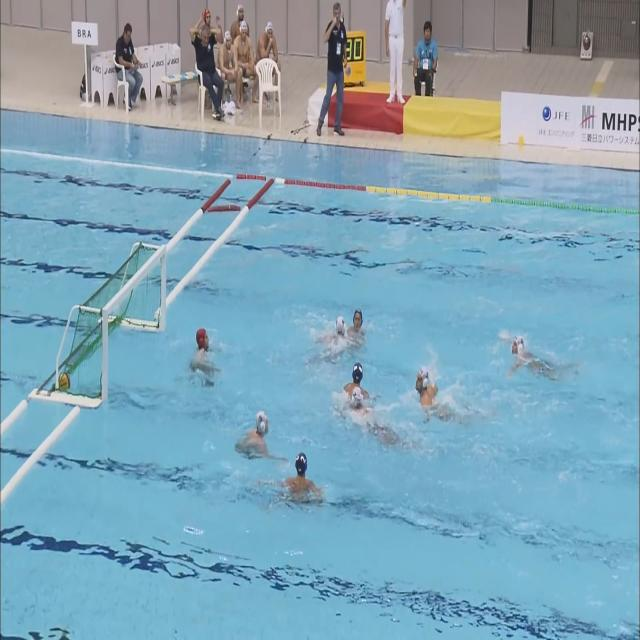ball: (59, 372, 70, 390)
